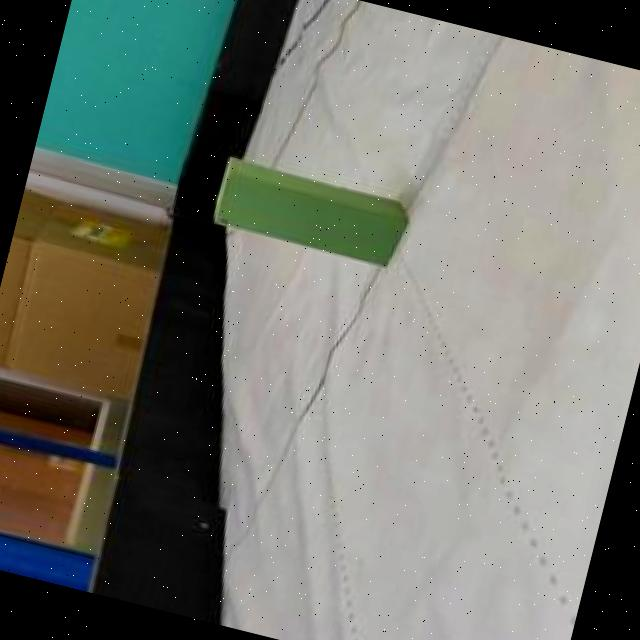greenbox: (208, 153, 412, 270)
